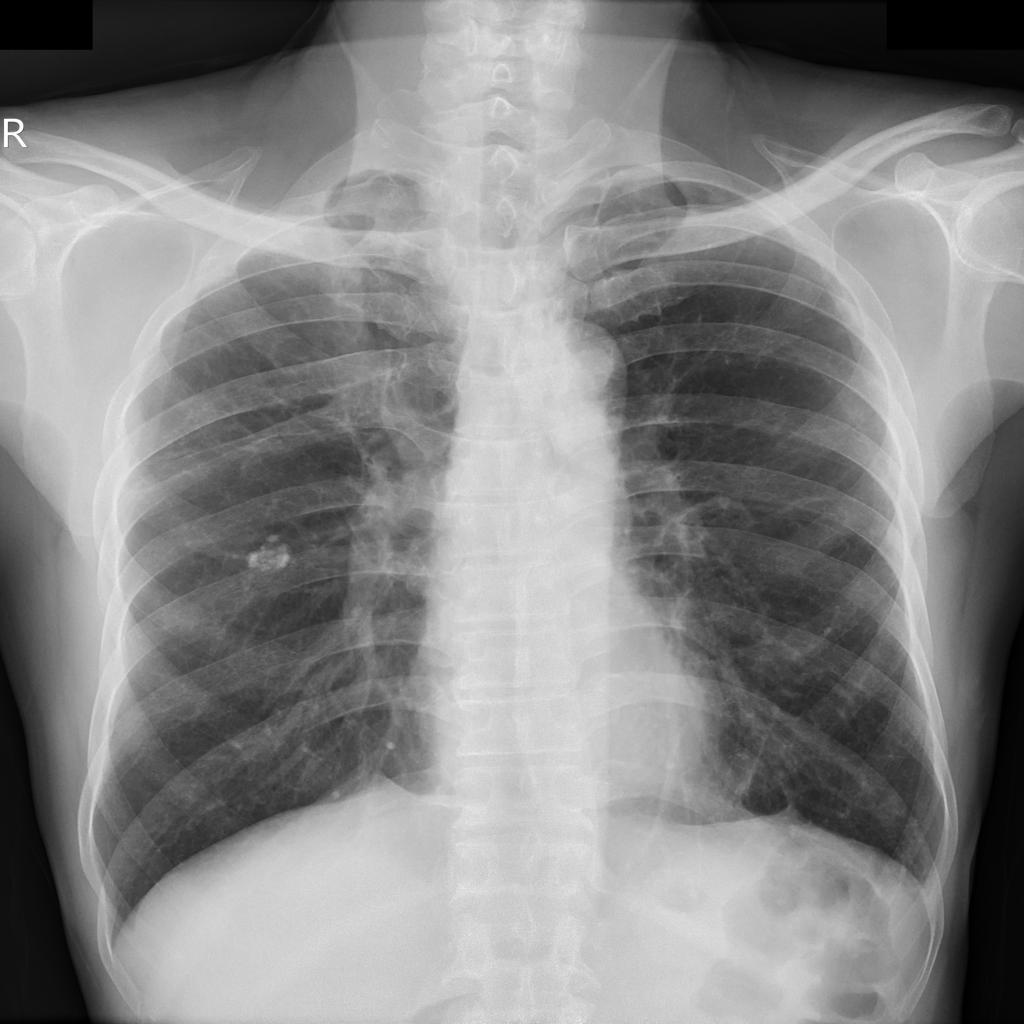Nodule: (238, 537, 299, 576)
